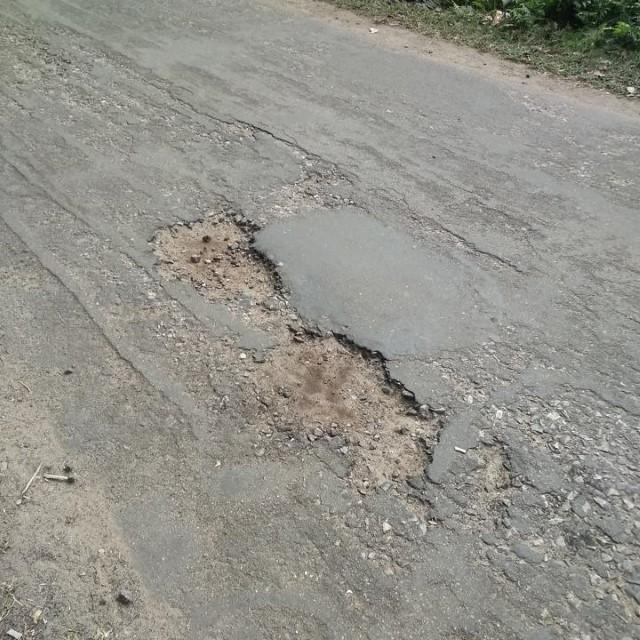Pothole: (141, 202, 521, 546)
